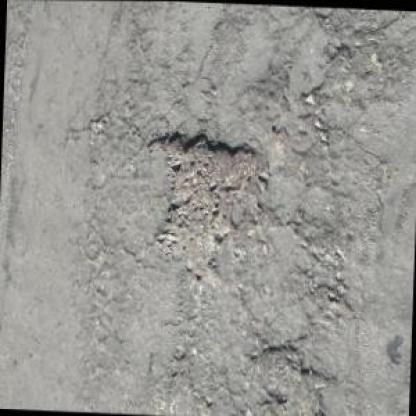pothole: (141, 122, 272, 269), (252, 337, 327, 392)
